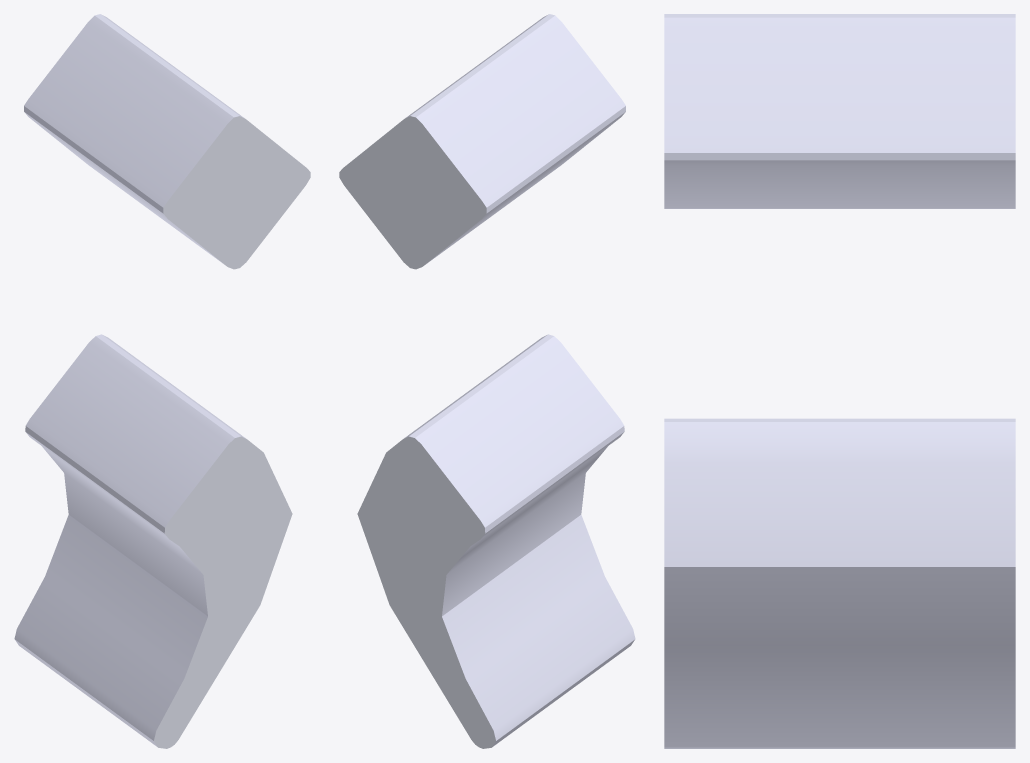
The model's file is 4aa9365d-8ab5-4b53-8612-fce9b3823078.glb.
3 views of the same model, side by side, from view 1: azimuth 30°, elevation 25°; view 2: azimuth 150°, elevation 25°; view 3: azimuth 270°, elevation 25° (orthographic). The views are drawn at different scales.
Visible parts, largest first — view 1: ;_Soul_Grey; view 2: ;_Soul_Grey; view 3: ;_Soul_Grey.
Part boxes in pixels (<box>): ;_Soul_Grey: <box>14,14,310,748</box>; ;_Soul_Grey: <box>339,14,635,748</box>; ;_Soul_Grey: <box>664,14,1015,748</box>.
Size of what is drawn, in the model's own units: 0.0292 by 0.1095 by 0.045.
2 materials, 2 textured.
